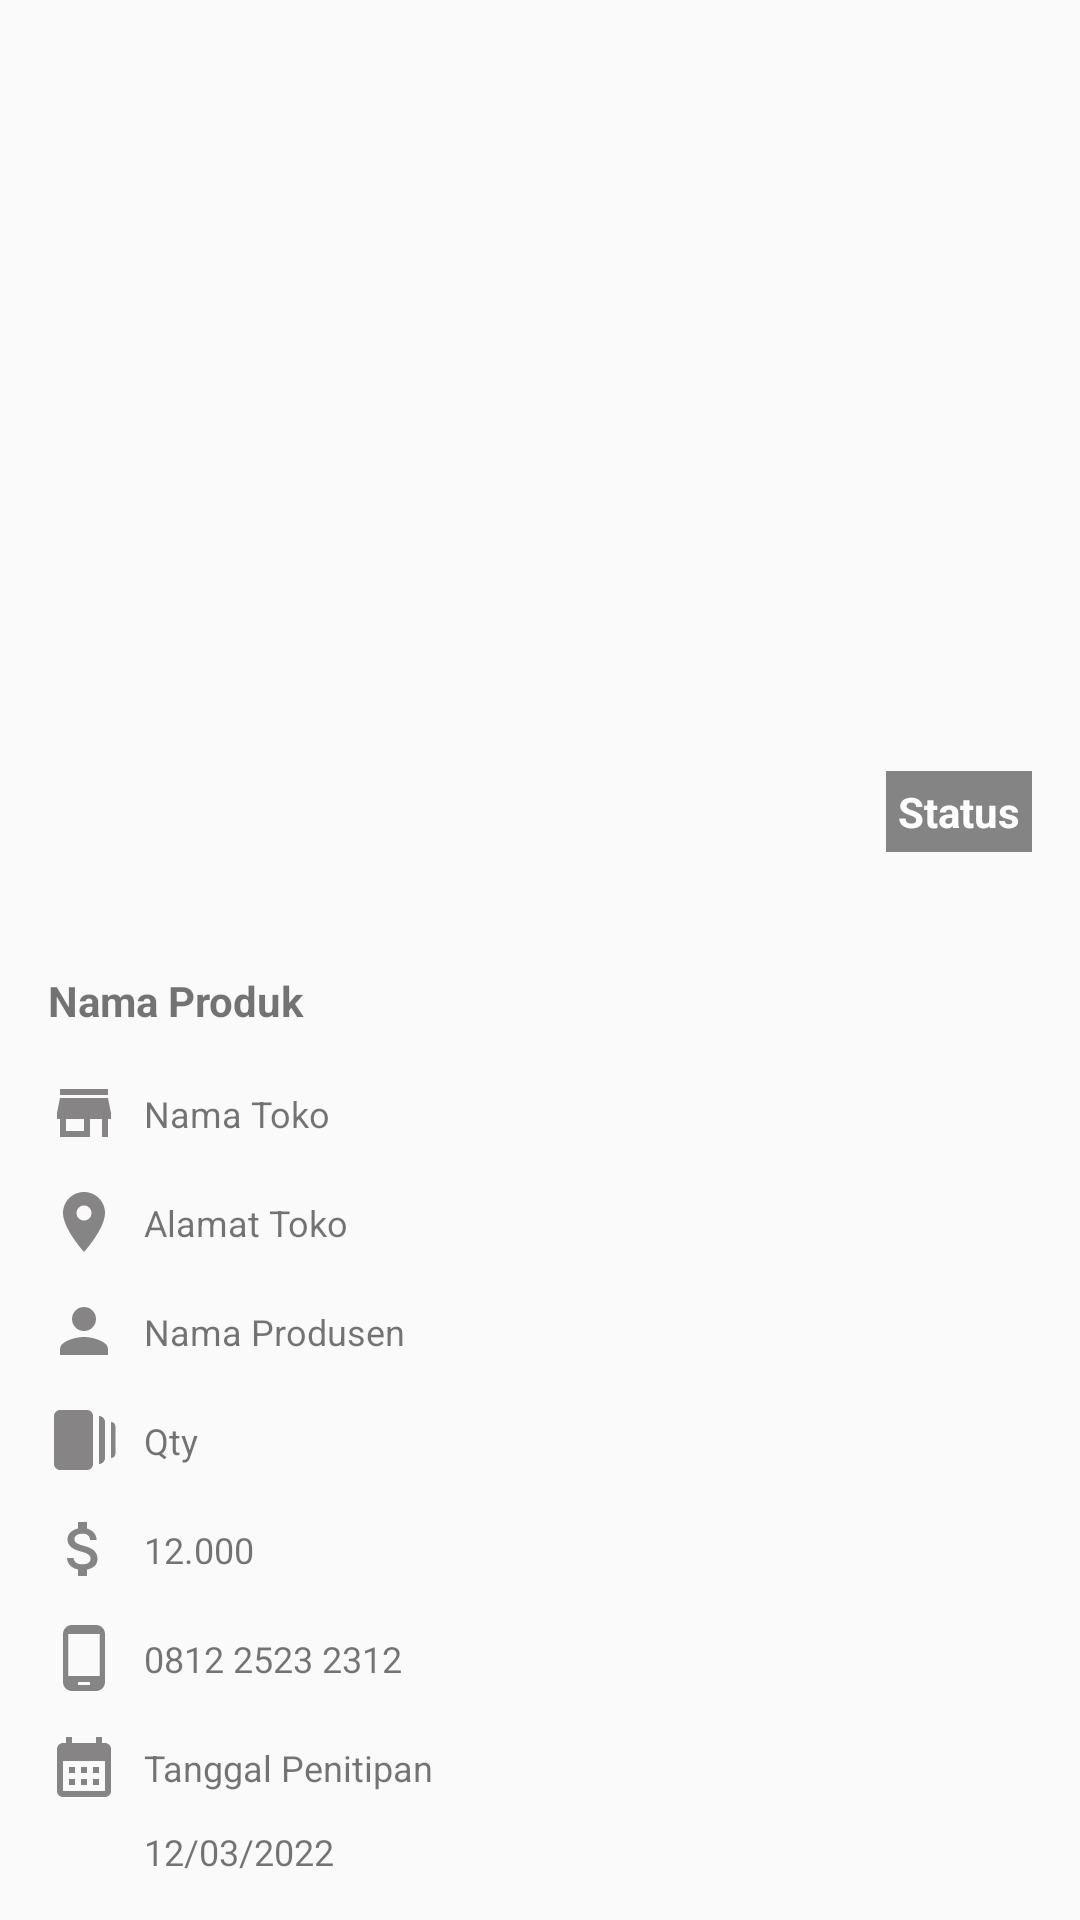

Icon click points for this 1080*1920 phone screenshot, format [x,y]:
address: [84,1222]
calendar: [84,1767]
money: [82,1549]
person: [84,1331]
phone: [84,1658]
stock: [85,1440]
store: [84,1113]
